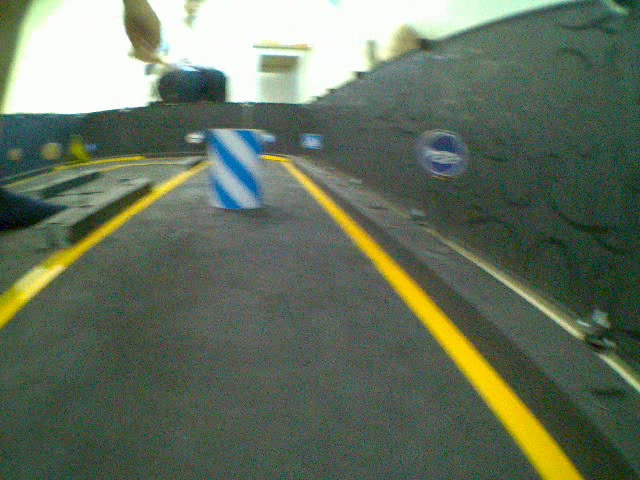bucket: (205, 125, 268, 211)
